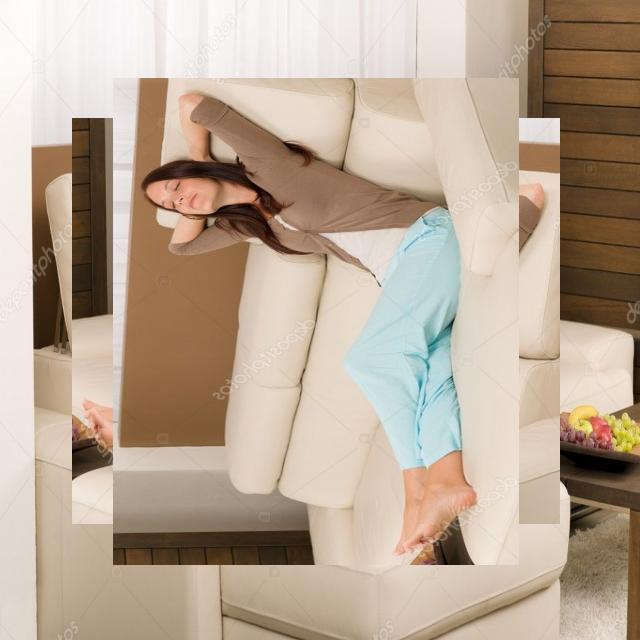NotFall: (138, 76, 530, 586)
